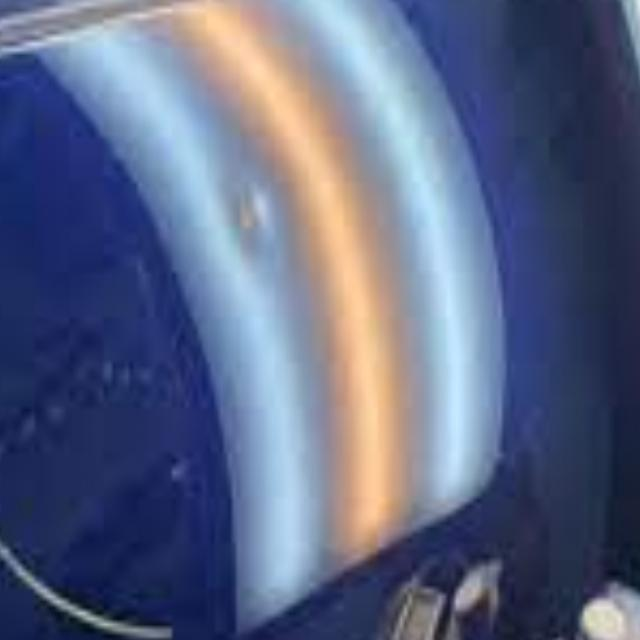dents: (218, 188, 303, 296)
